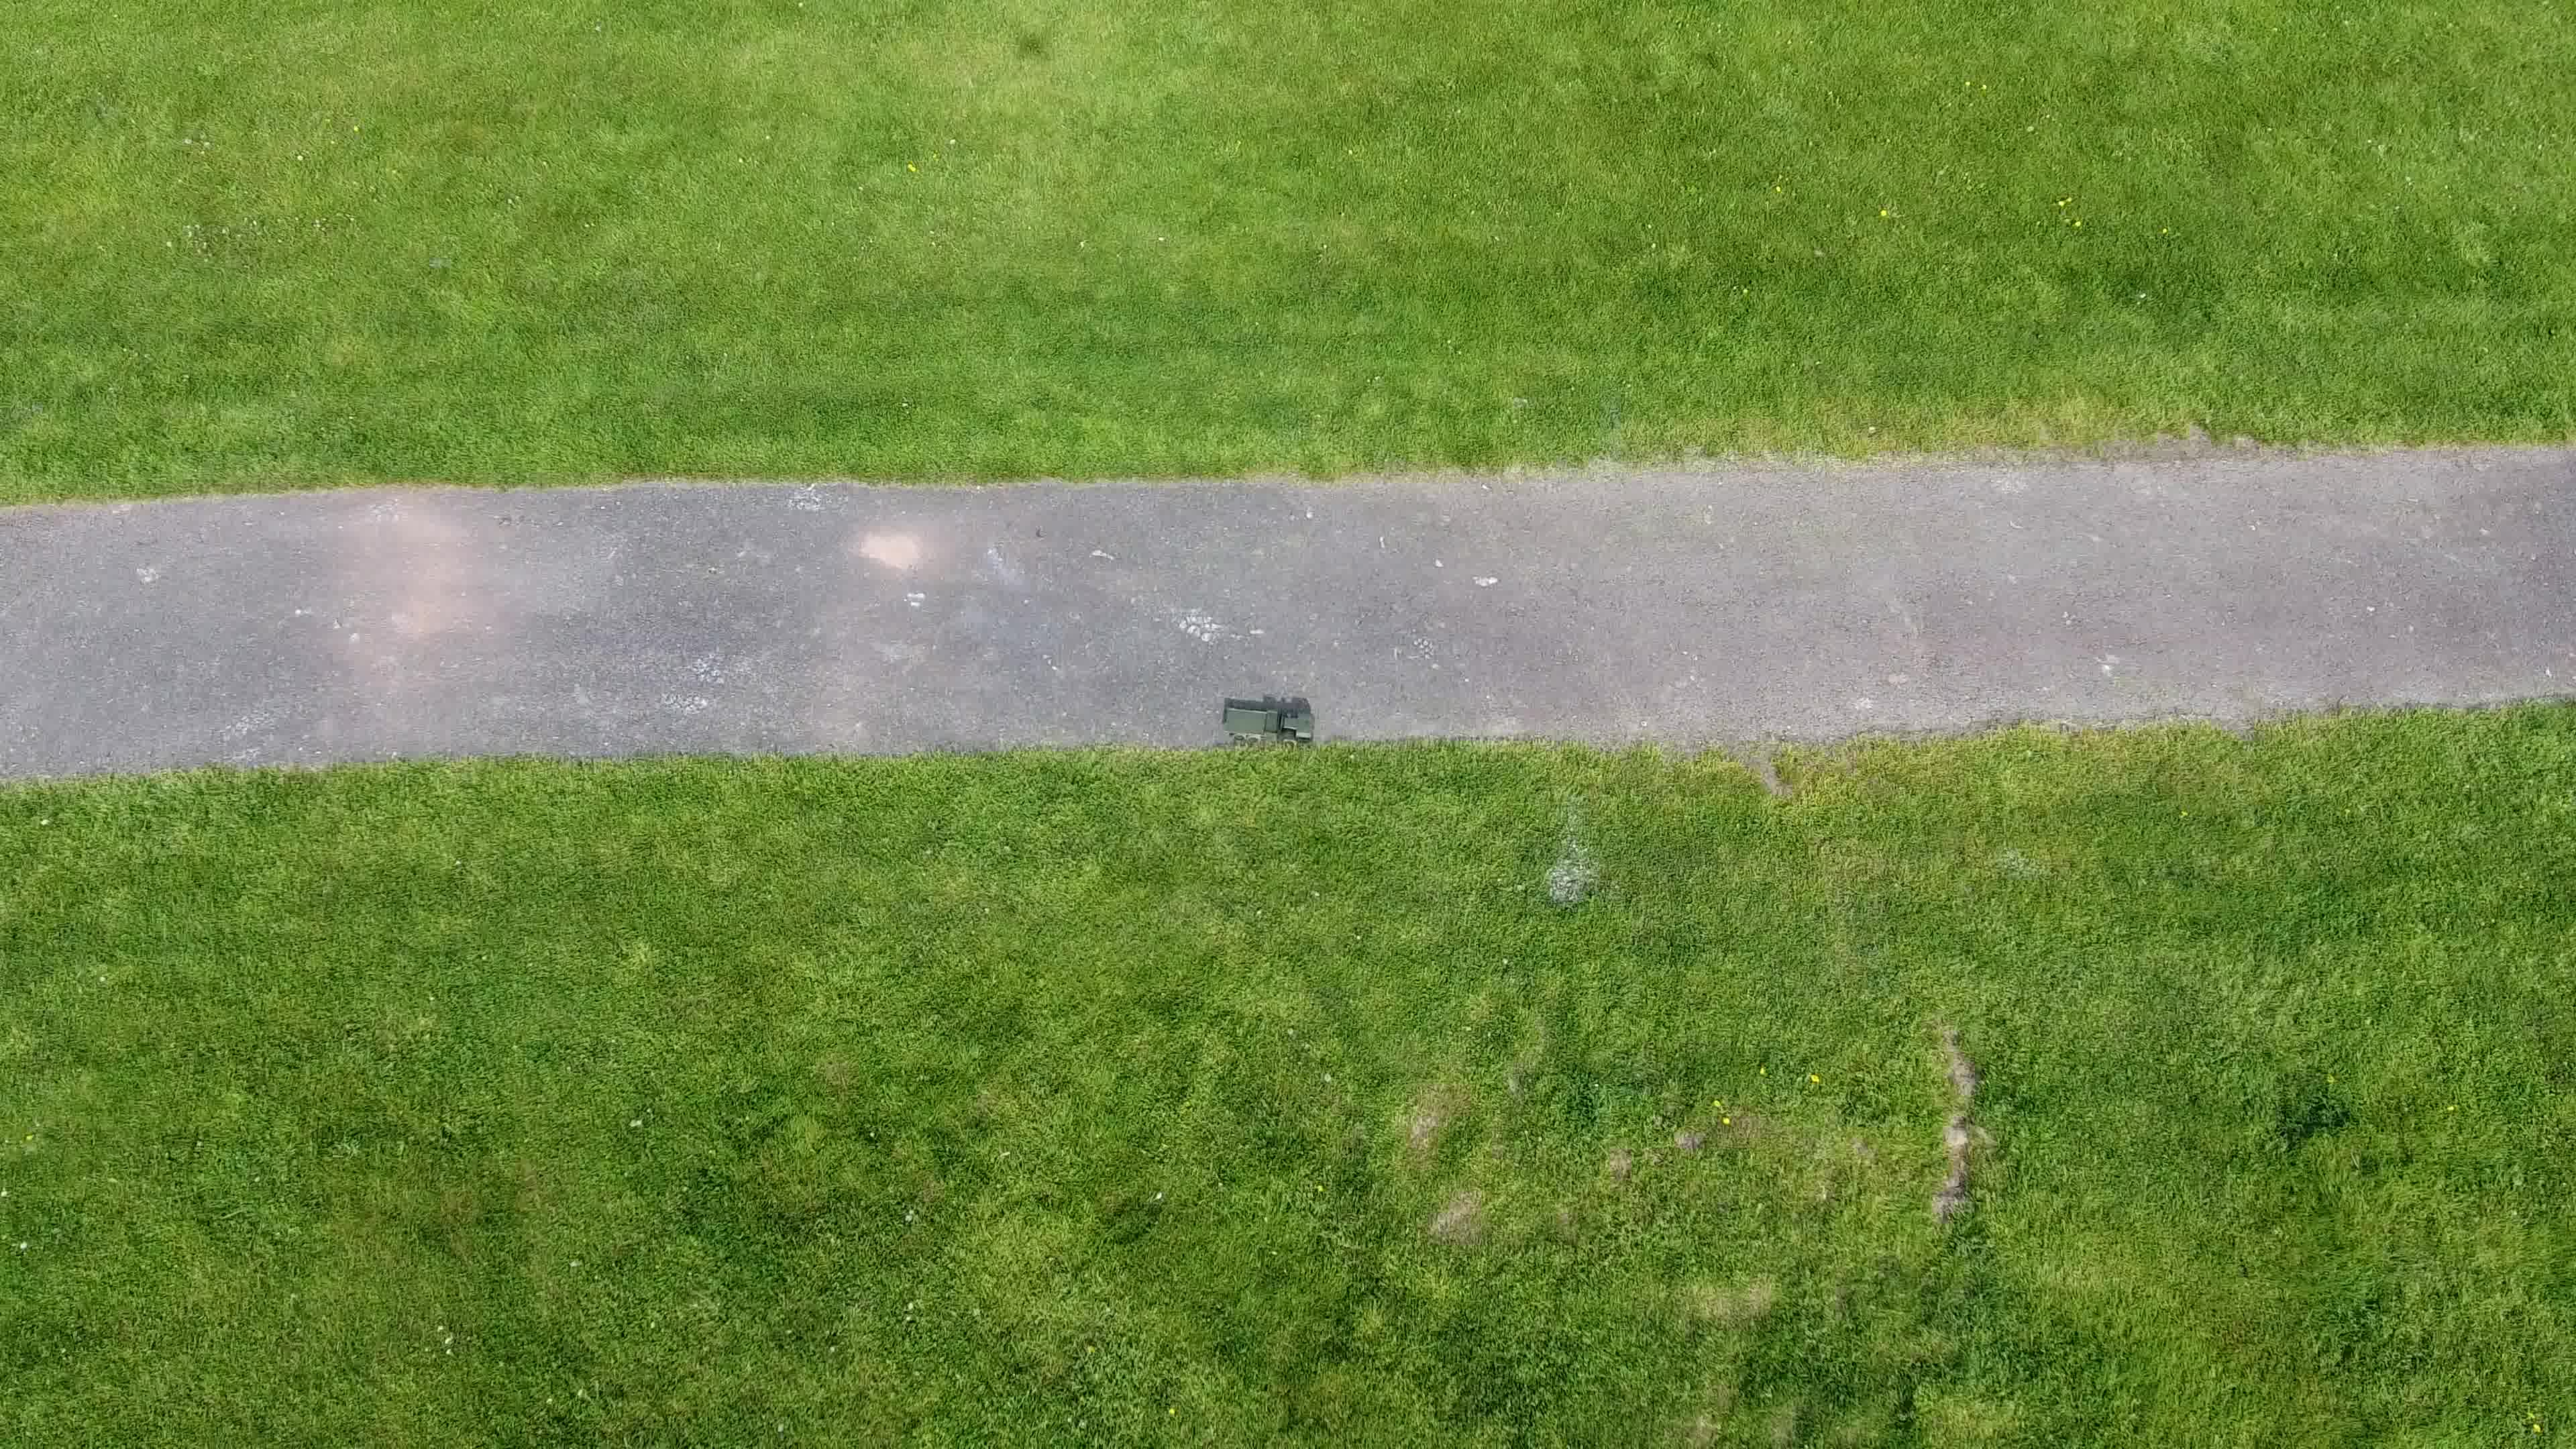transporter9: (1215, 702, 1320, 755)
